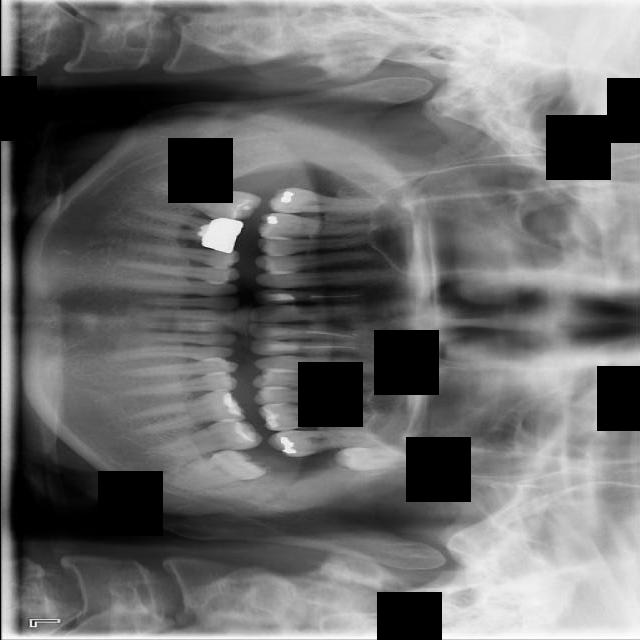52: (195, 208, 245, 259), (201, 186, 261, 225), (196, 386, 246, 426), (266, 181, 314, 221), (208, 418, 262, 450), (256, 211, 303, 242), (256, 402, 301, 433), (267, 430, 317, 457), (247, 322, 295, 341), (252, 288, 299, 305), (248, 340, 301, 355)
73: (293, 324, 360, 341), (297, 290, 370, 302), (298, 341, 362, 353), (42, 598, 52, 610)
BioHorizons Implant: (266, 427, 387, 457)
BioLife Implant: (333, 447, 400, 471)
Biomet 3i Implant: (174, 440, 271, 497)
Blue Sky Bio Implant: (158, 414, 263, 460)
Caries: (267, 185, 383, 214)
Implant: (150, 175, 261, 228)
